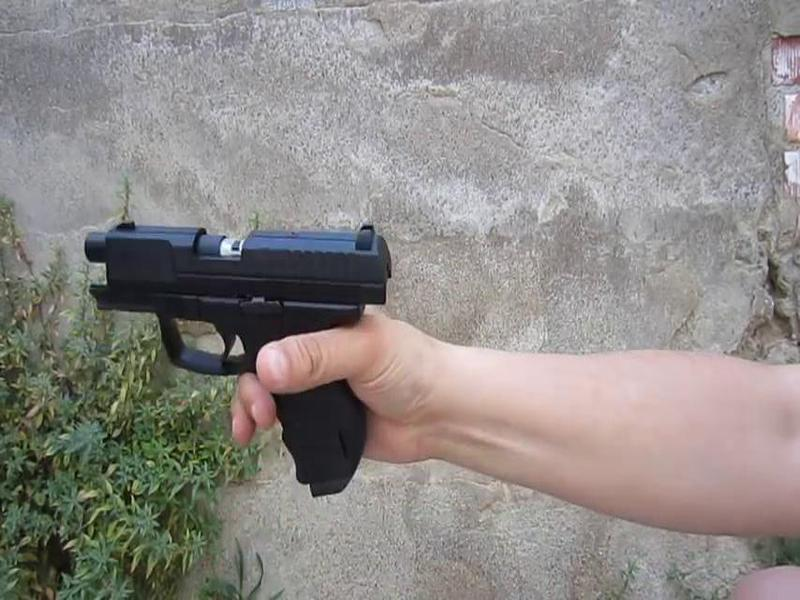Pistola: (69, 201, 398, 500)
